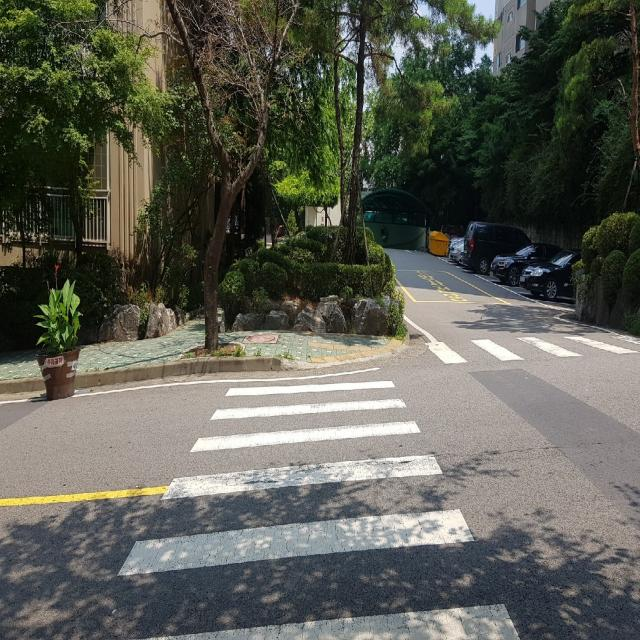횡단보도: (114, 374, 524, 640), (421, 328, 640, 365)
